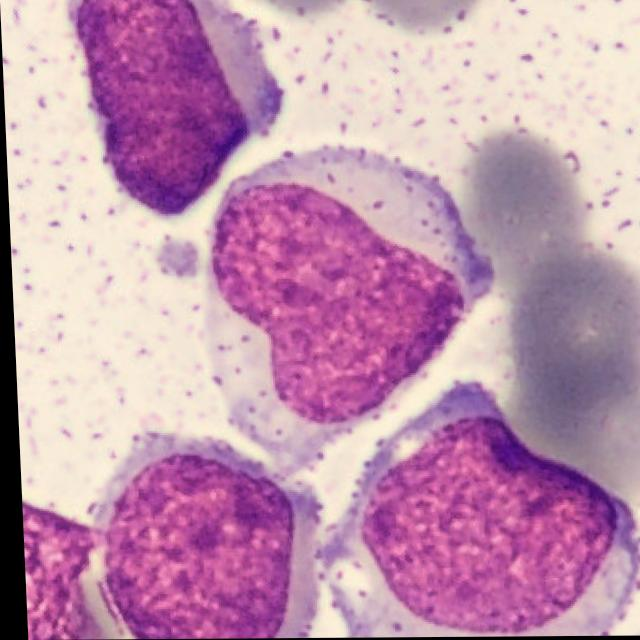Mieloblasto: (206, 149, 492, 476), (325, 383, 639, 638), (67, 0, 278, 220), (94, 432, 318, 639)
